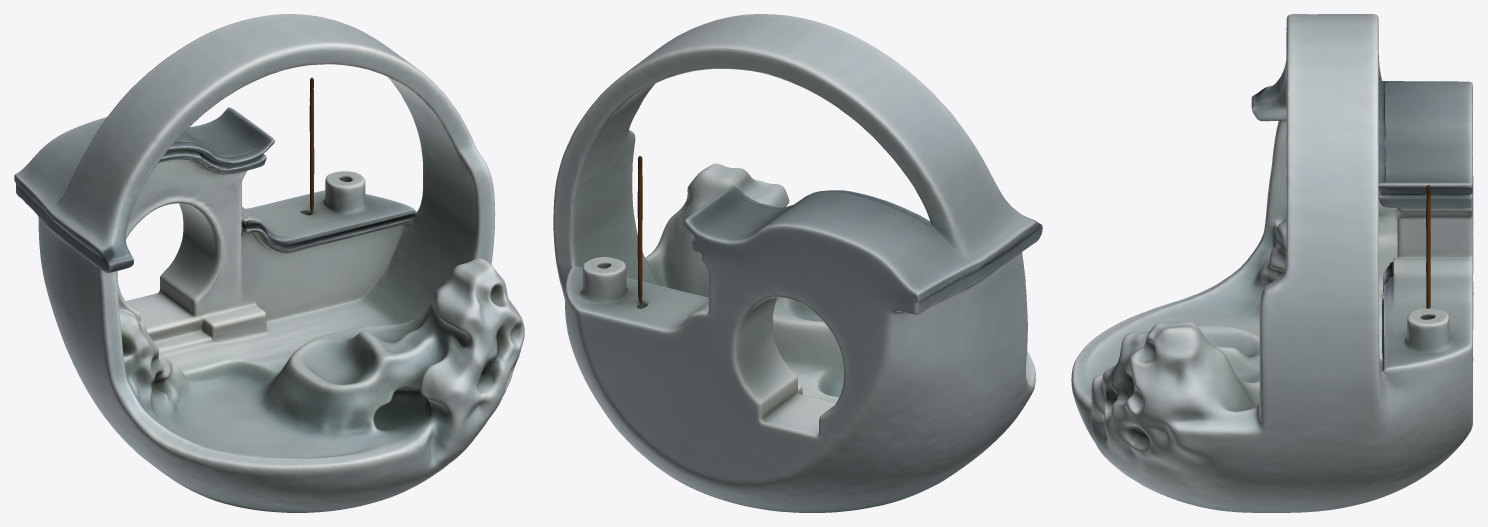
Rendered from 8d315cf6-7406-44da-8bef-e585b7b10360-base_basic_pbr.glb.
3 renders of one model, left to right at view 1: azimuth 30°, elevation 25°; view 2: azimuth 150°, elevation 25°; view 3: azimuth 270°, elevation 25°, orthographic. The views are drawn at different scales.
Parts seen in each view (by area): view 1: model; view 2: model; view 3: model.
Part boxes in pixels (bbox=[...]): model: bbox=[14, 14, 524, 512]; model: bbox=[553, 14, 1042, 512]; model: bbox=[1071, 14, 1473, 512].
Bounding box in the file's own units: 1.91 × 1.9 × 1.61.
1 material, 1 textured.
